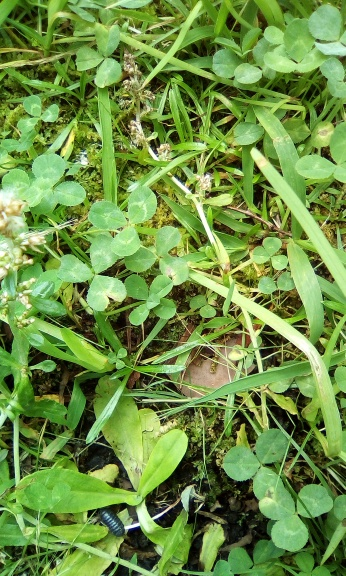4leaf: (123, 274, 177, 327)
